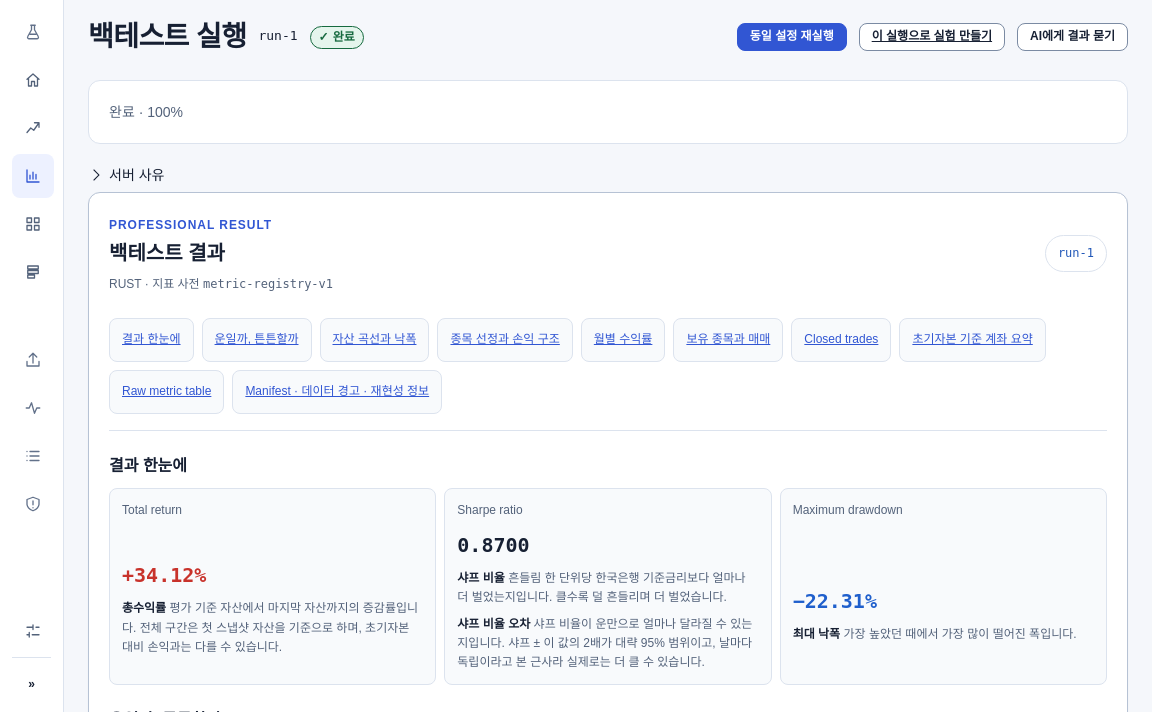
백테스트 결과 화면의 AI 패널 › 사이드바를 닫으면 패널이 숨고 초점이 여는 버튼으로 돌아온다
Click the button "AI에게 결과 묻기" at x=1073, y=37, box [1017,23,1128,51]
(page scrolled)
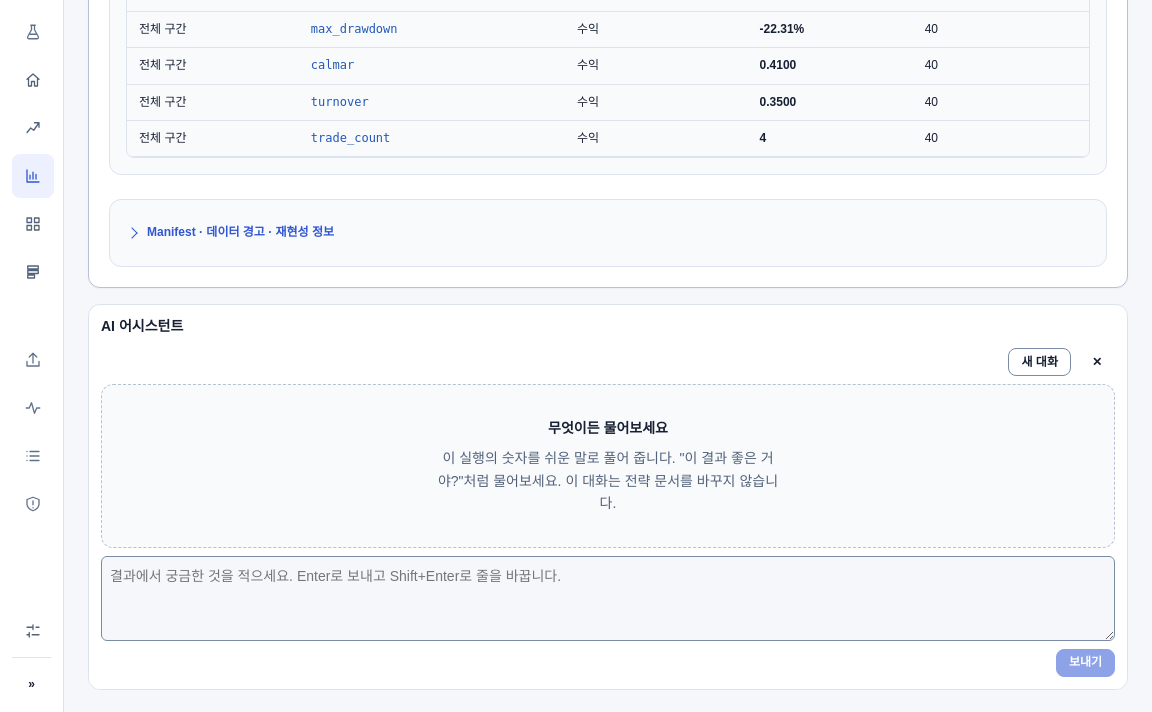
Click the button named "사이드바 닫기" at x=1097, y=362, box [1079,348,1115,376]
(page scrolled)
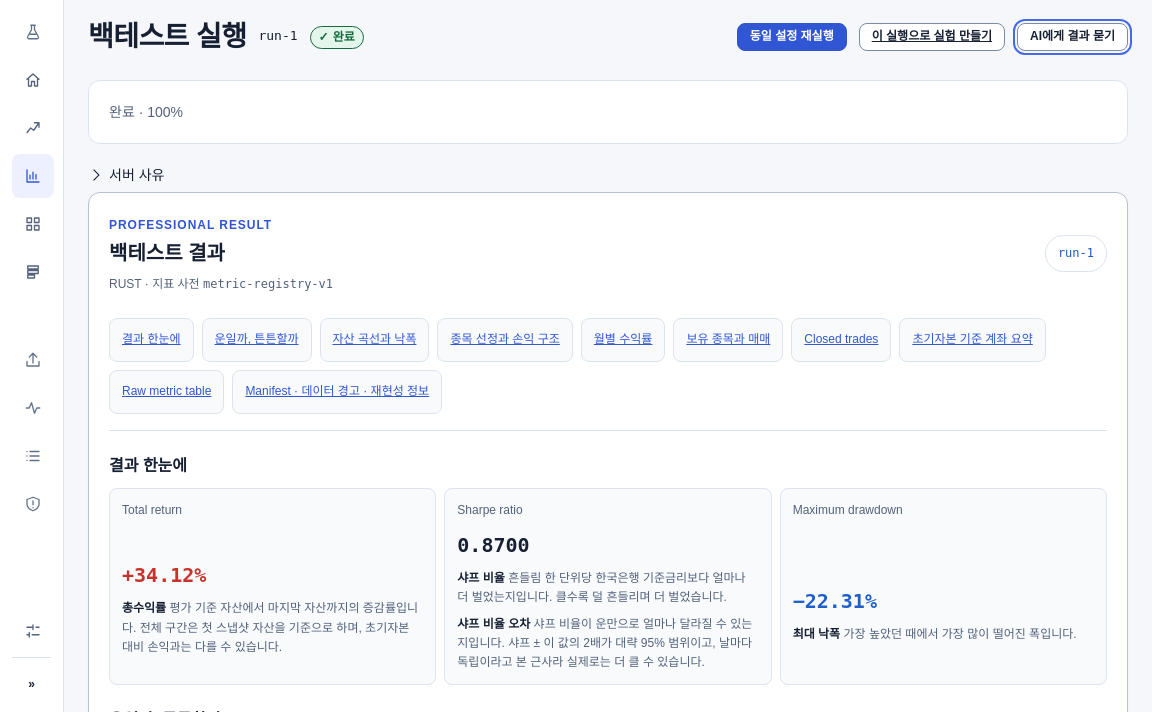
Expected: the heading "AI 어시스턴트" is gone
Expected: the button "AI에게 결과 묻기" is collapsed, [1017,23,1128,51]
